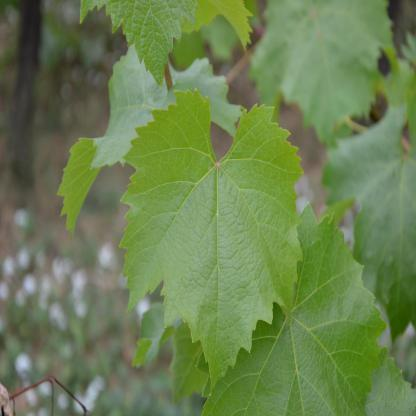grape leaf: (119, 91, 308, 393), (214, 240, 381, 416)
